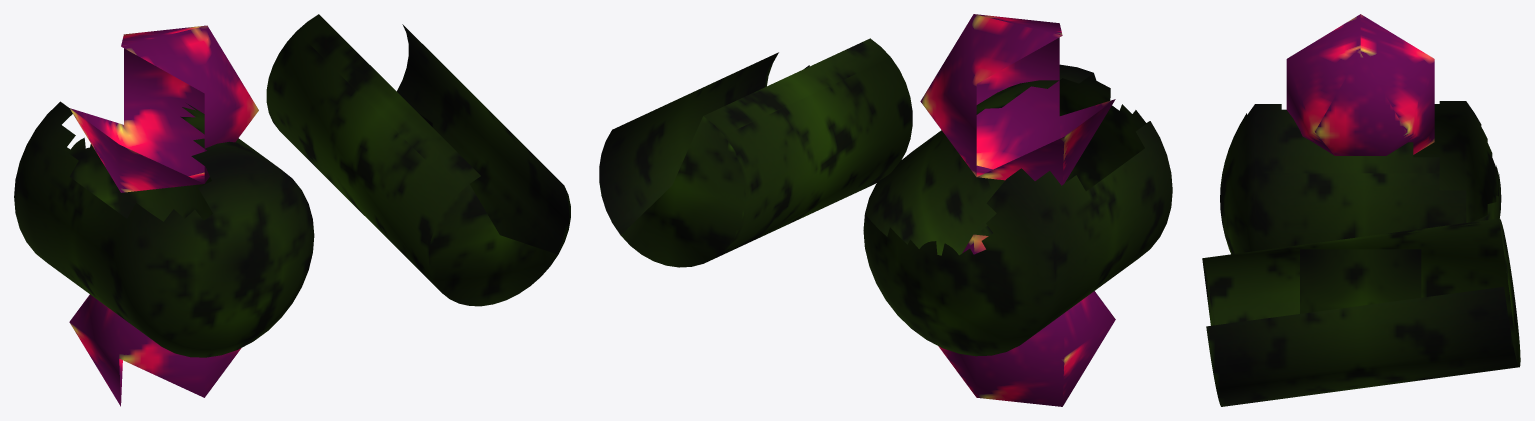
File: BlurbBomberDestructionPart1.fbx
3 views of the same model, side by side, from view 1: azimuth 30°, elevation 25°; view 2: azimuth 150°, elevation 25°; view 3: azimuth 270°, elevation 25° (orthographic). The views are drawn at different scales.
Visible parts, largest first — view 1: BlurbBomber; view 2: BlurbBomber; view 3: BlurbBomber.
Boxes of the visible parts, bbox=[...] form: BlurbBomber: bbox=[14, 14, 570, 406]; BlurbBomber: bbox=[599, 14, 1172, 406]; BlurbBomber: bbox=[1202, 14, 1520, 406].
Size of the model in its own units: 732 by 603 by 527.
Materials: 1 (1 with a texture image).
